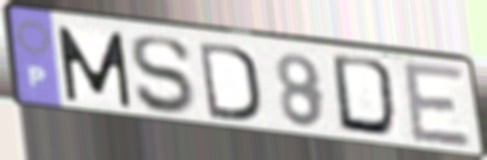8: (272, 51, 325, 130)
D: (328, 52, 405, 143), (196, 38, 263, 125)
E: (399, 58, 475, 150)
M: (53, 23, 135, 110)
S: (127, 34, 196, 116)
